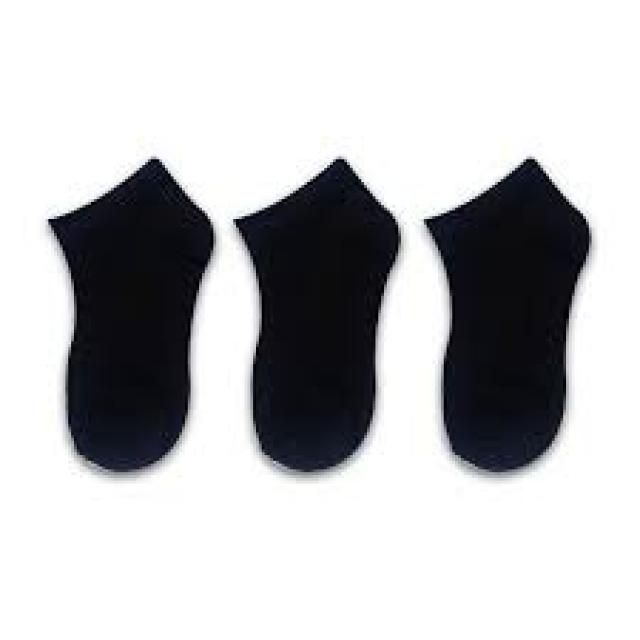sock: (230, 154, 401, 472), (421, 157, 592, 472), (45, 154, 214, 472)
